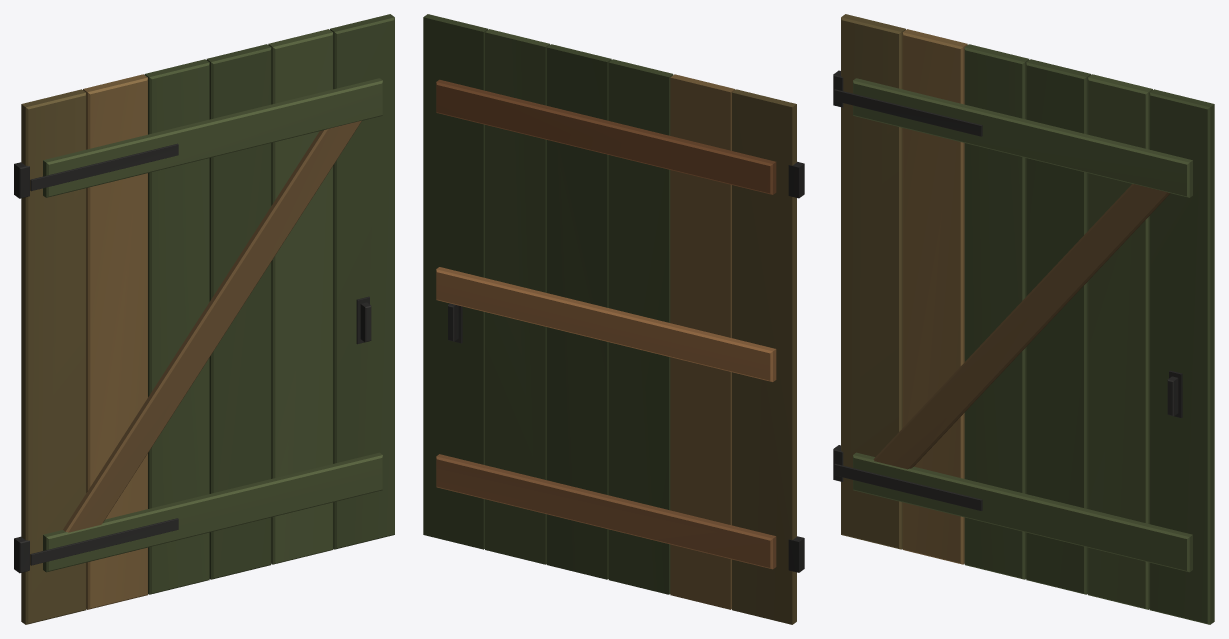
File: wood_door_01.glb
3 views of the same model, side by side, from view 1: azimuth 30°, elevation 25°; view 2: azimuth 150°, elevation 25°; view 3: azimuth 330°, elevation 25° (orthographic).
Visible parts, largest first — view 1: door_leaf, door_hardware; view 2: door_leaf, door_hardware; view 3: door_leaf, door_hardware.
Boxes of the visible parts, x1,y1,x2,y2 form: door_leaf: (21, 14, 394, 624); door_hardware: (14, 143, 371, 573); door_leaf: (423, 14, 796, 624); door_hardware: (448, 161, 804, 572); door_leaf: (841, 14, 1214, 624); door_hardware: (833, 70, 1182, 510).
Size of the model in its own units: 1.79 by 2.35 by 0.14.
